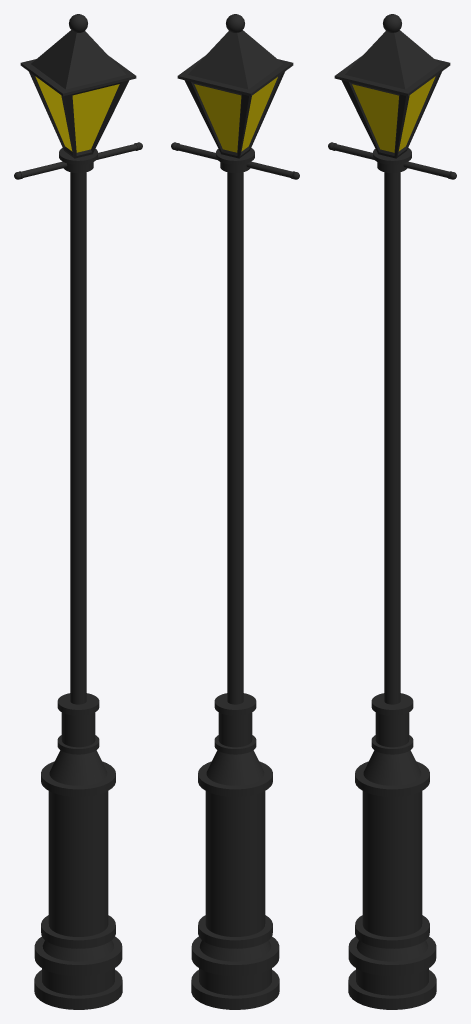
The model's file is lampara.obj.
3 views of the same model, side by side, from view 1: azimuth 30°, elevation 25°; view 2: azimuth 150°, elevation 25°; view 3: azimuth 330°, elevation 25° (orthographic).
Visible parts, largest first — view 1: Park_LampPost; view 2: Park_LampPost; view 3: Park_LampPost.
Part boxes in pixels (<box>): Park_LampPost: <box>14,14,142,1009</box>; Park_LampPost: <box>171,14,299,1009</box>; Park_LampPost: <box>328,14,456,1009</box>.
Bounding box in the file's own units: 131 × 959 × 78.74.
